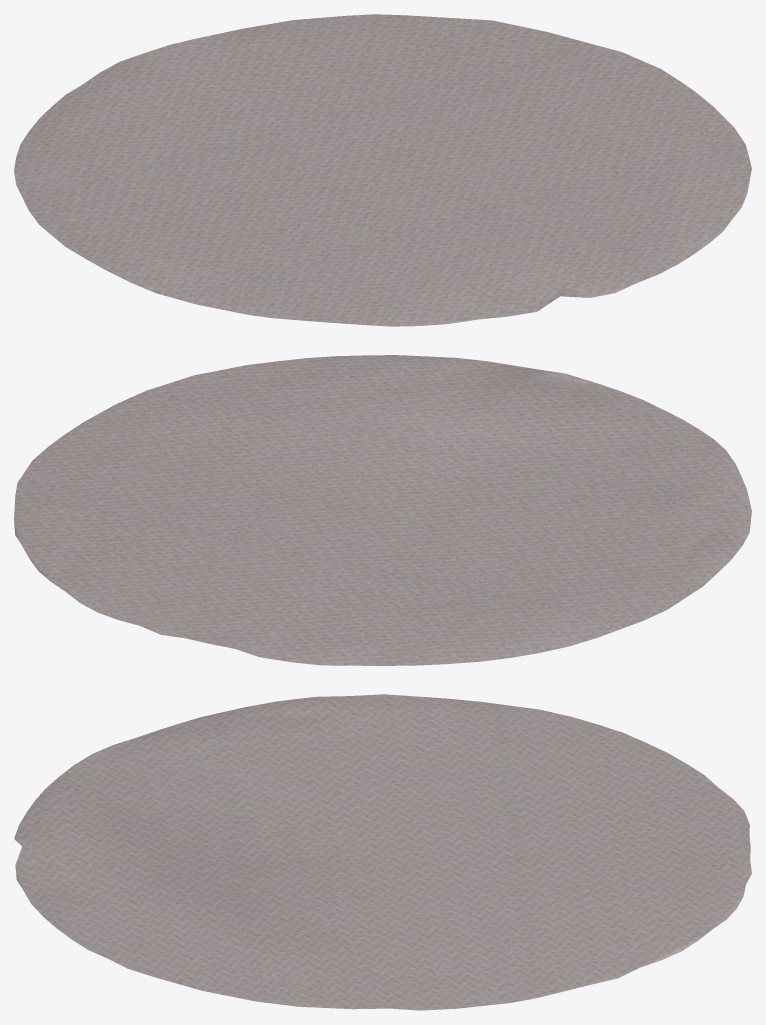
File: Carpet0008.obj
The picture shows the model from 3 angles, top to bottom: view 1: azimuth 30°, elevation 25°; view 2: azimuth 150°, elevation 25°; view 3: azimuth 270°, elevation 25°; orthographic projection.
Size of the model in its own units: 2.16 by 0.026 by 2.15.
Materials: 1 (1 with a texture image).
